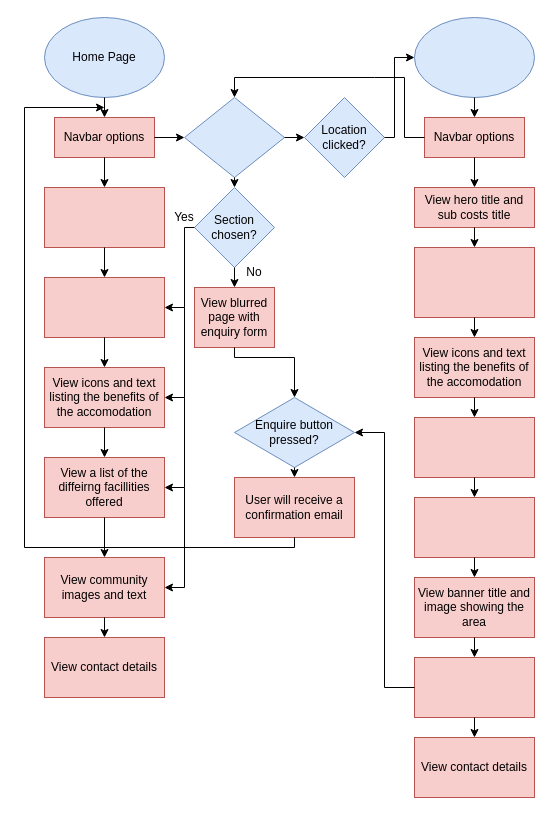
This 552x815 diagram has some shape labels left out. Each missing label, with the box of its shape:
Click navbar option: (184, 96, 284, 178)
Location pages: (414, 16, 534, 98)
View a collage of interior images: (414, 496, 534, 558)
View a list of what is included in the contract: (414, 416, 534, 478)
View collumned interior video and embedded map displaying the location: (414, 246, 534, 318)
View enquiry section: (414, 656, 534, 718)
View hero banner video and title: (44, 186, 164, 248)
View locations with titles and images: (44, 276, 164, 338)
